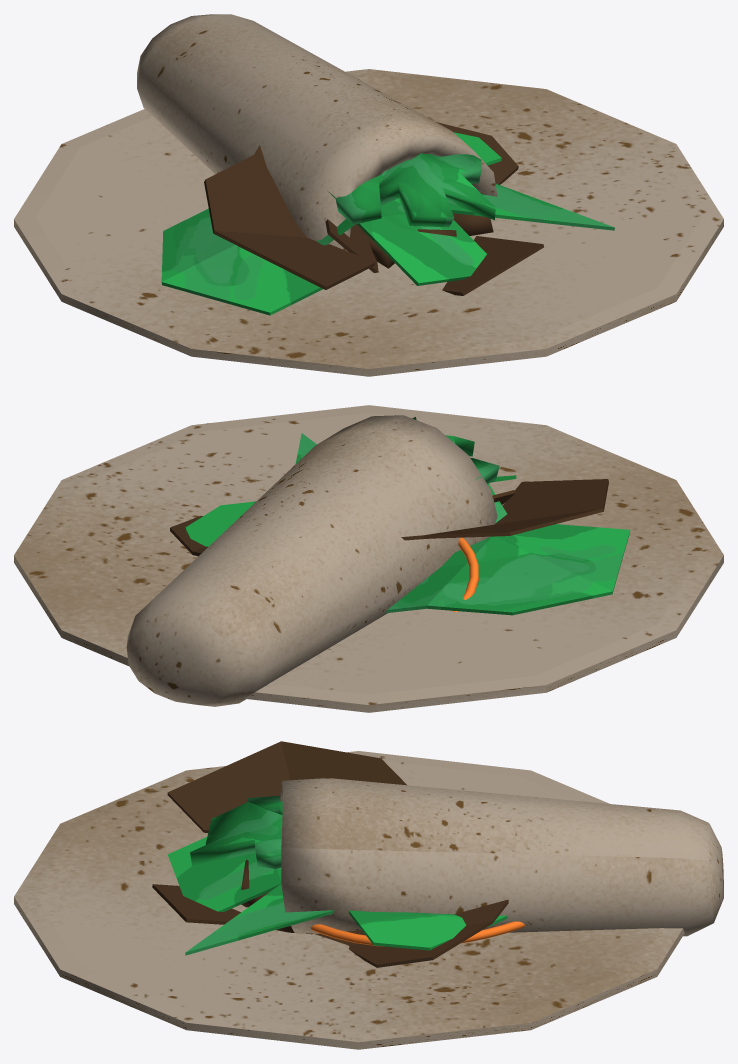
Rendered from Kebab.fbx.
3 views of the same model, one above another, from view 1: azimuth 30°, elevation 25°; view 2: azimuth 150°, elevation 25°; view 3: azimuth 270°, elevation 25° (orthographic). The views are drawn at different scales.
Parts seen in each view (by area): view 1: Tortilla, Kebab, Tortilla1, Tortilla2; view 2: Tortilla, Kebab, Tortilla1, Tortilla2, TortillaSOs; view 3: Tortilla, Kebab, Tortilla2, Tortilla1, TortillaSOs.
Part boxes in pixels (bbox=[...]): Tortilla: bbox=[14, 69, 723, 376]; Kebab: bbox=[137, 14, 497, 268]; Tortilla1: bbox=[161, 132, 614, 315]; Tortilla2: bbox=[204, 122, 543, 295]; Tortilla: bbox=[14, 405, 723, 712]; Kebab: bbox=[126, 415, 499, 706]; Tortilla1: bbox=[185, 433, 630, 615]; Tortilla2: bbox=[170, 479, 608, 556]; TortillaSOs: bbox=[452, 537, 478, 611]; Tortilla: bbox=[14, 751, 684, 1049]; Kebab: bbox=[190, 778, 723, 936]; Tortilla2: bbox=[152, 741, 508, 967]; Tortilla1: bbox=[167, 837, 507, 955]; TortillaSOs: bbox=[311, 921, 524, 946].
Size of the model in its own units: 0.3596 by 0.3703 by 0.0793.
1 material, 1 textured.
